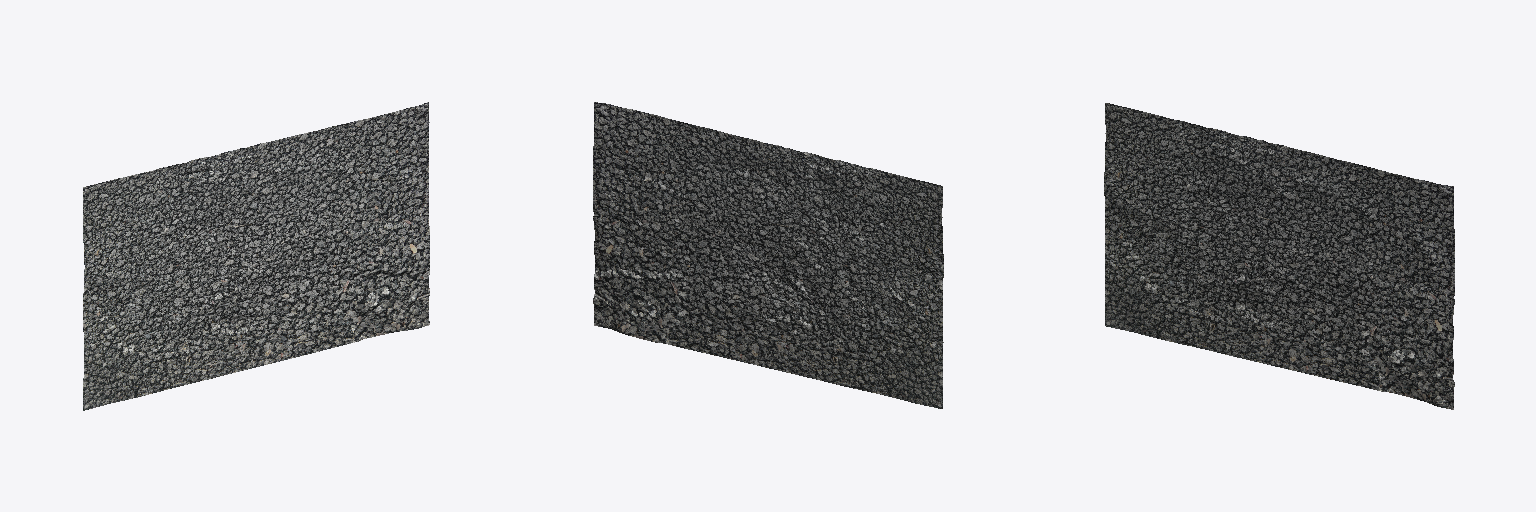
3 renders of one model, left to right at view 1: azimuth 30°, elevation 25°; view 2: azimuth 150°, elevation 25°; view 3: azimuth 330°, elevation 25°, orthographic.
Visible parts, largest first — view 1: Terrain; view 2: Terrain; view 3: Terrain.
Part boxes in pixels (x1,y1,x2,y2): Terrain: (83,102,429,410); Terrain: (593,102,943,408); Terrain: (1104,103,1454,409).
Bounding box in the file's own units: 0.636 × 0.3914 × 0.0148.
Materials: 1 (1 with a texture image).